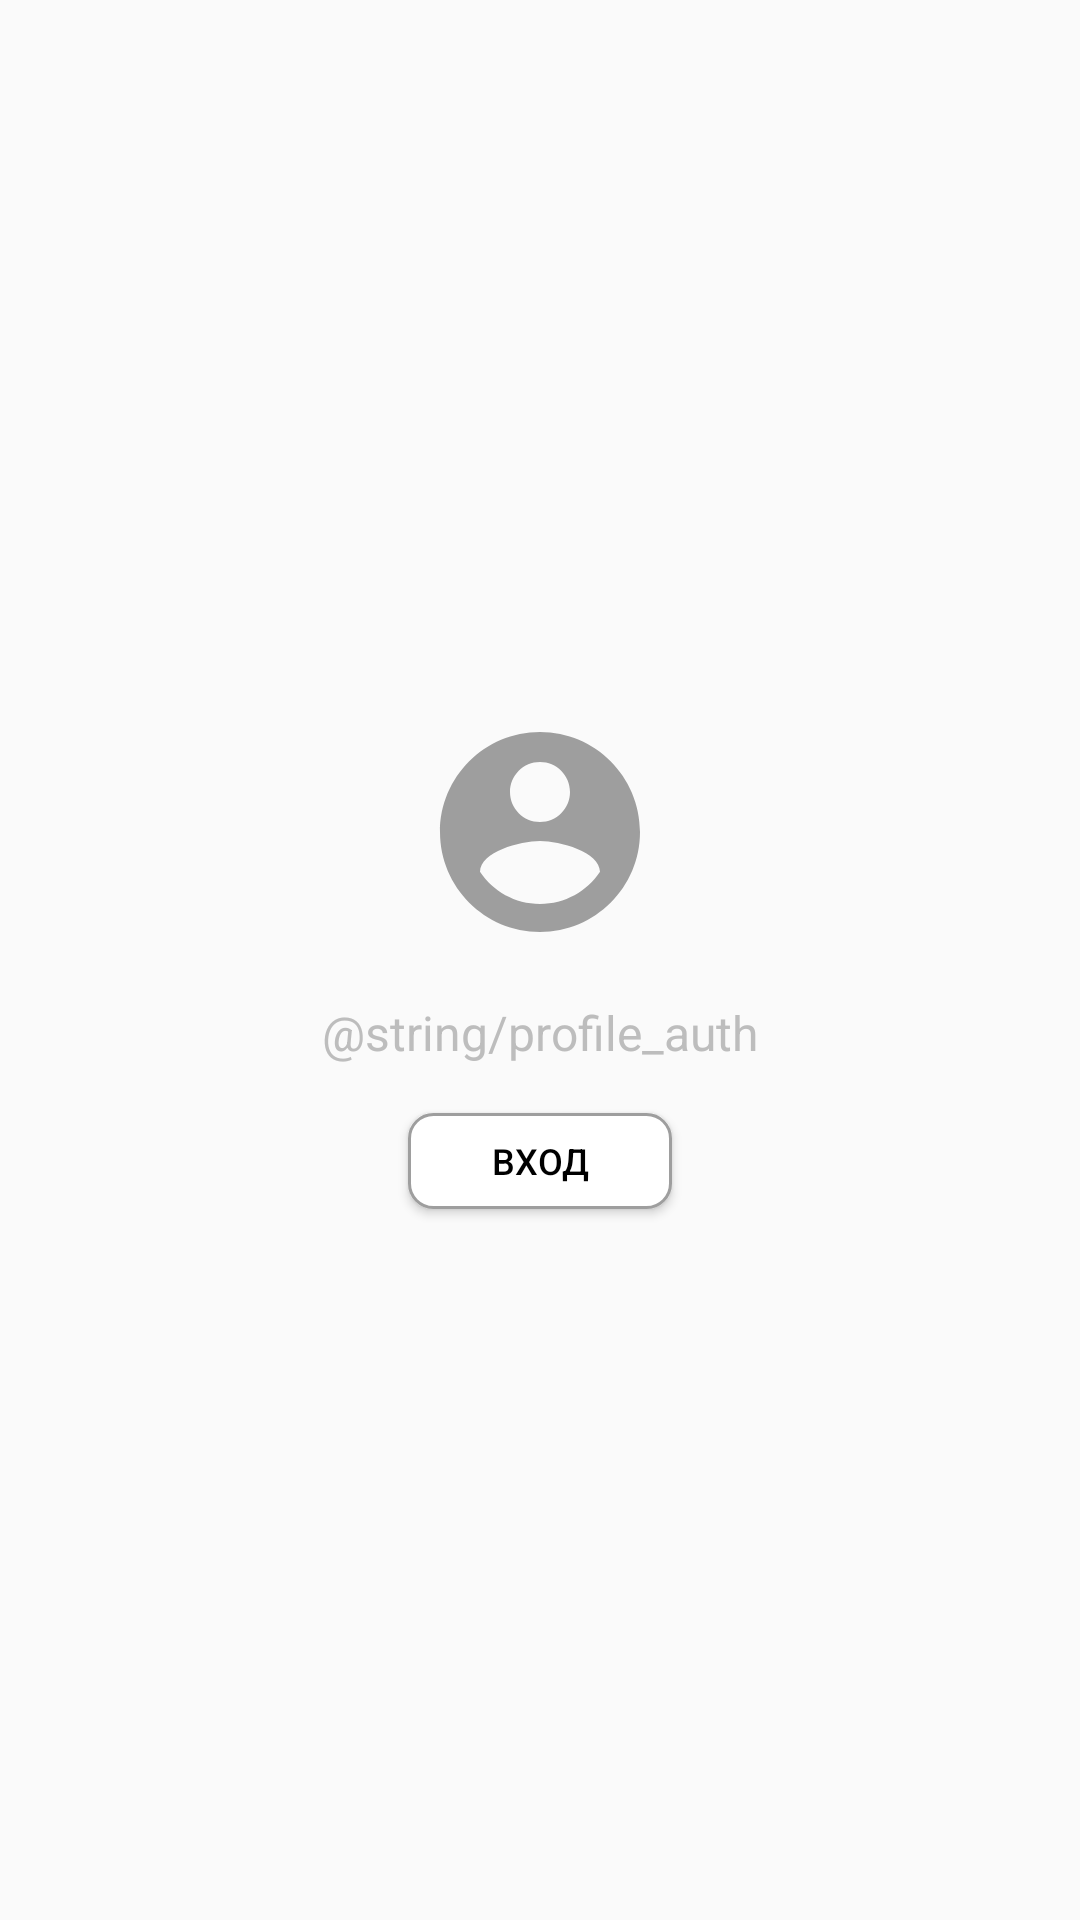

Icon click points for this 1080 × 1920 phone screenshot, format point (x, y):
account circle: point (540, 832)
